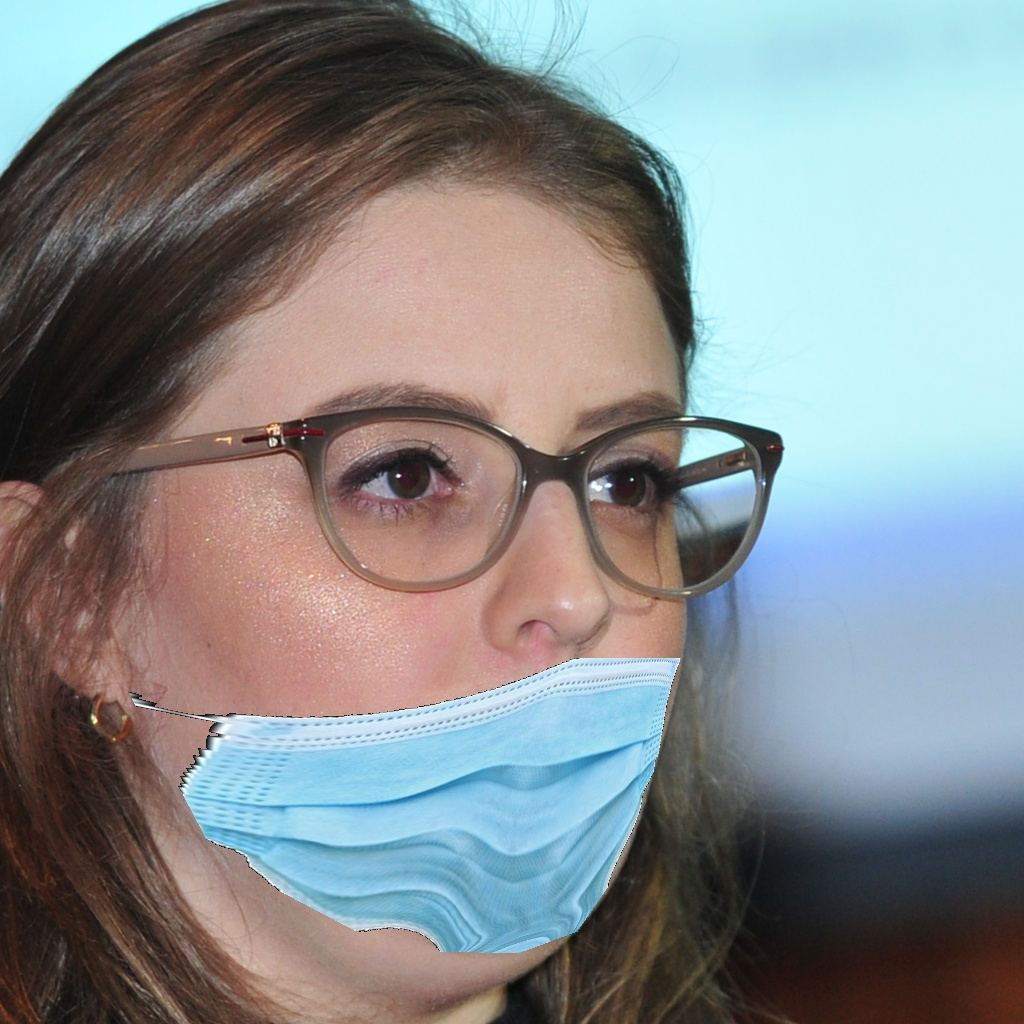mascarilla_mal_puesta: (87, 360, 694, 955)
